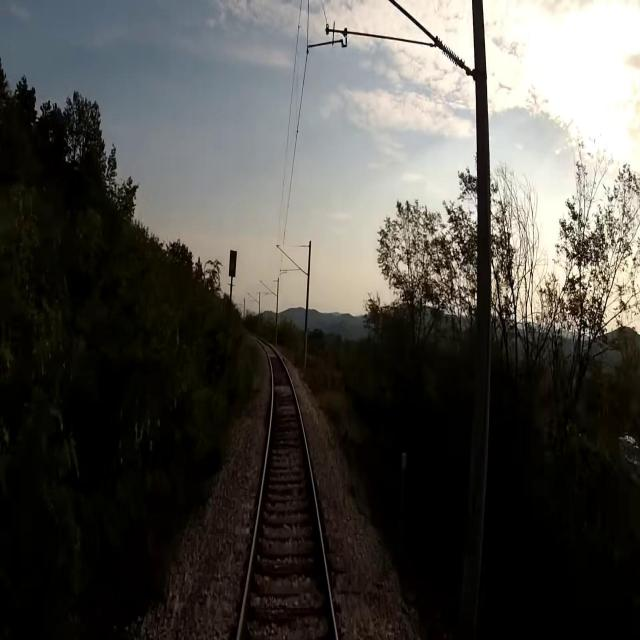rail-track: (241, 344, 334, 639)
